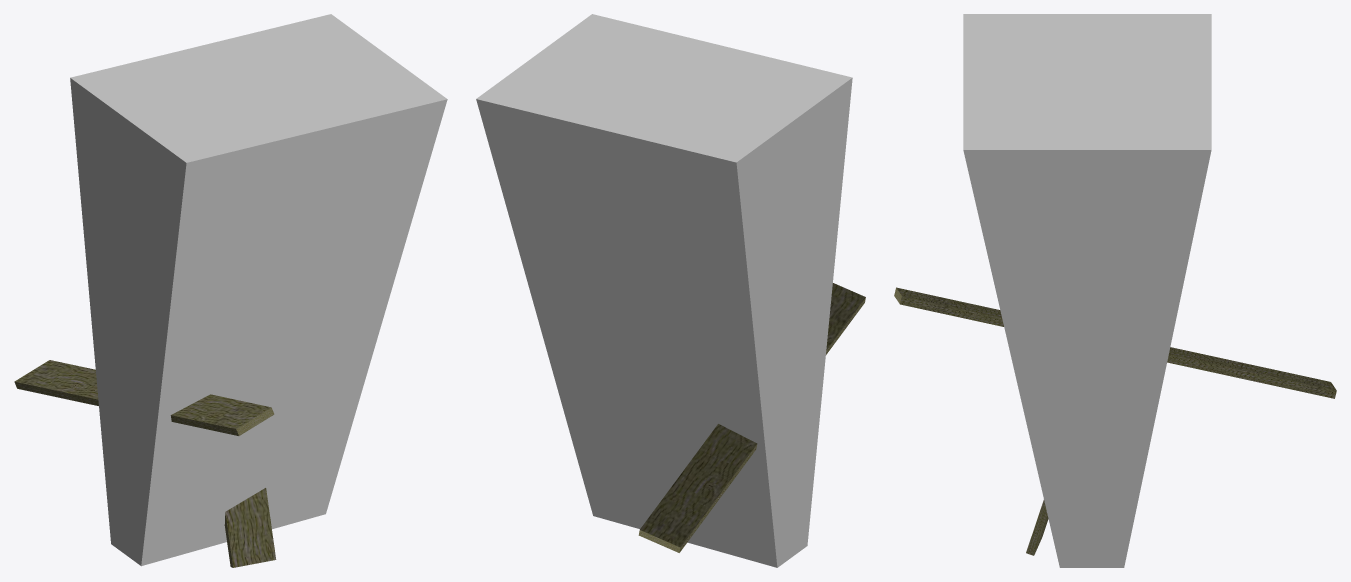
Rendered from boards.obj.
The picture shows the model from 3 angles, left to right: view 1: azimuth 30°, elevation 25°; view 2: azimuth 150°, elevation 25°; view 3: azimuth 270°, elevation 25°; orthographic projection. The views are drawn at different scales.
Visible parts, largest first — view 1: Box02, Duplicate06, Duplicate04; view 2: Box02, Duplicate06; view 3: Box02, Duplicate06.
Part boxes in pixels (x1,y1,x2,y2): Box02: (70,14,447,566); Duplicate06: (14,360,274,435); Duplicate04: (224,488,276,567); Box02: (476,14,852,567); Duplicate06: (638,283,865,552); Box02: (963,14,1211,567); Duplicate06: (894,287,1336,398).
Size of the model in its own units: 38.94 by 64.27 by 53.62.
